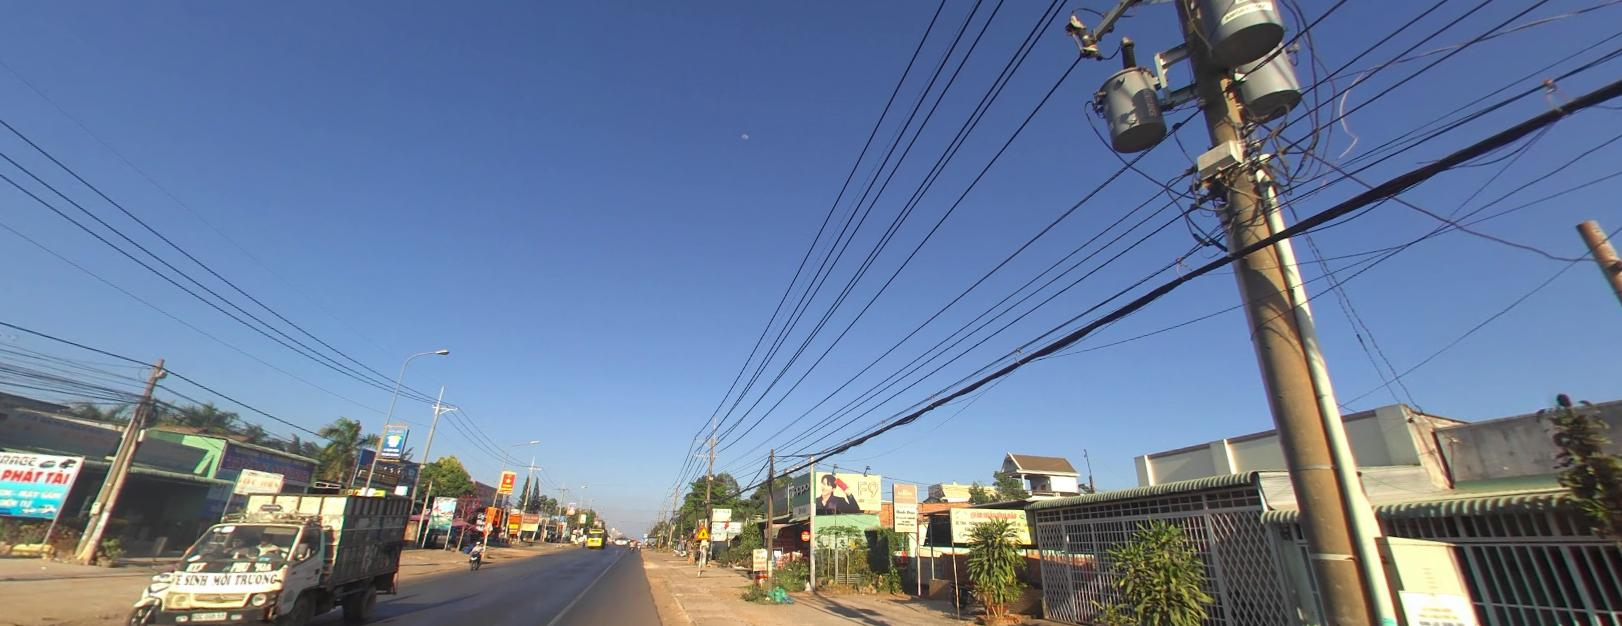Nguy hiem: (696, 526, 709, 538)
